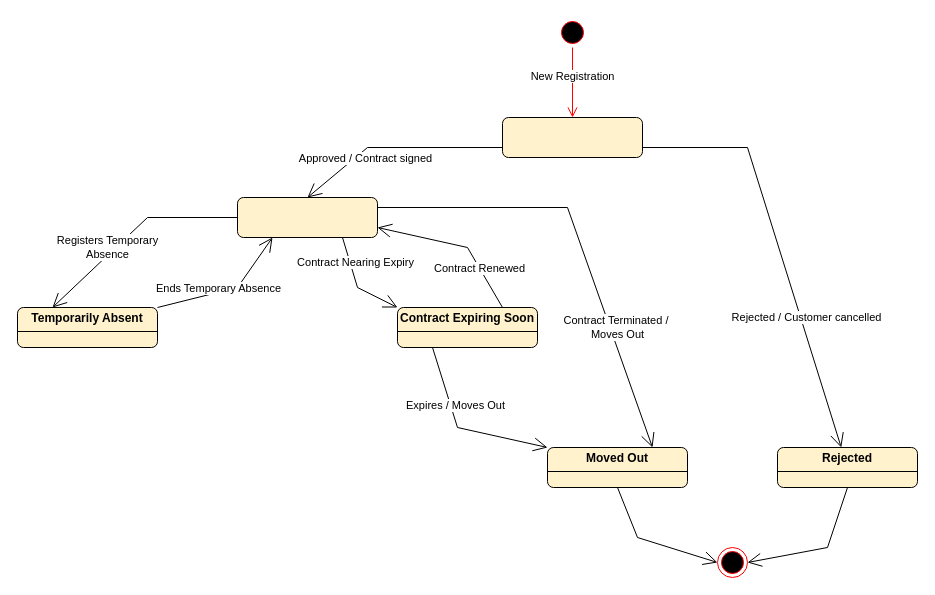
Some shapes in this 935 by 595 pixel diagram are drawn without their labels. Each missing label, with the centre of its shape:
"Active Residing" belongs at (x=307, y=217).
"Pending Approval" belongs at (x=572, y=137).
